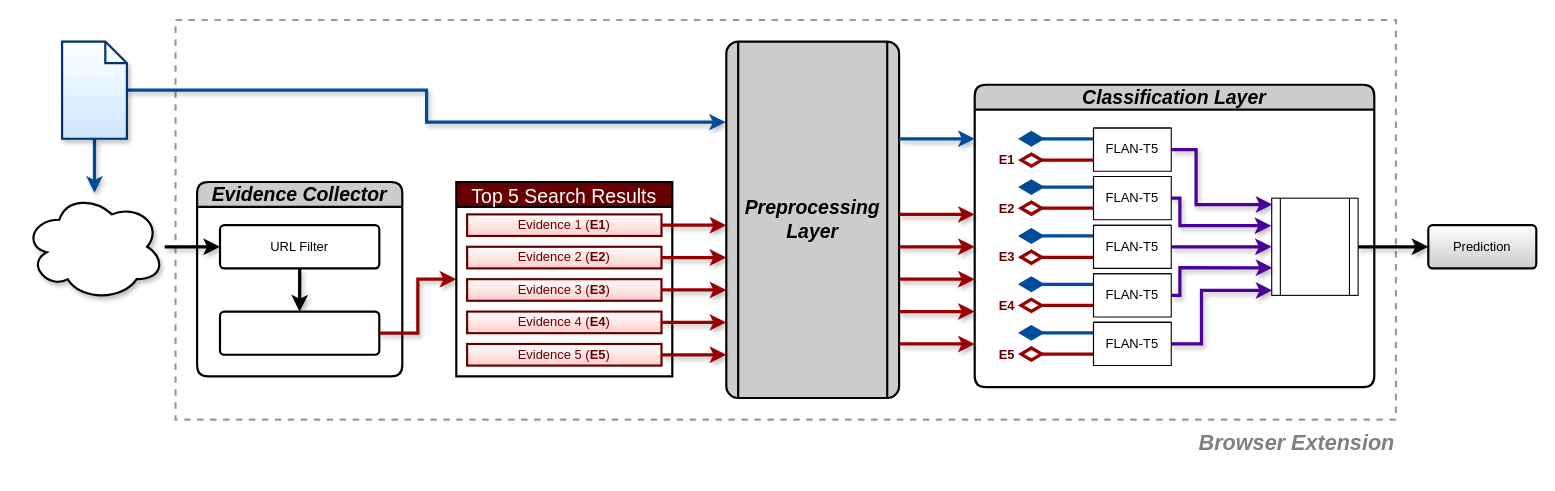
Some shapes in this 1555 by 491 pixel diagram are drawn without their labels. Here are the shapes that lost their labels. From the top down, the centre of each, then its label:
the point at 95,91: Claim ( C )
the point at 95,248: duckduckgo-search API
the point at 1314,246: Majority Voting
the point at 299,332: Semantic Search
